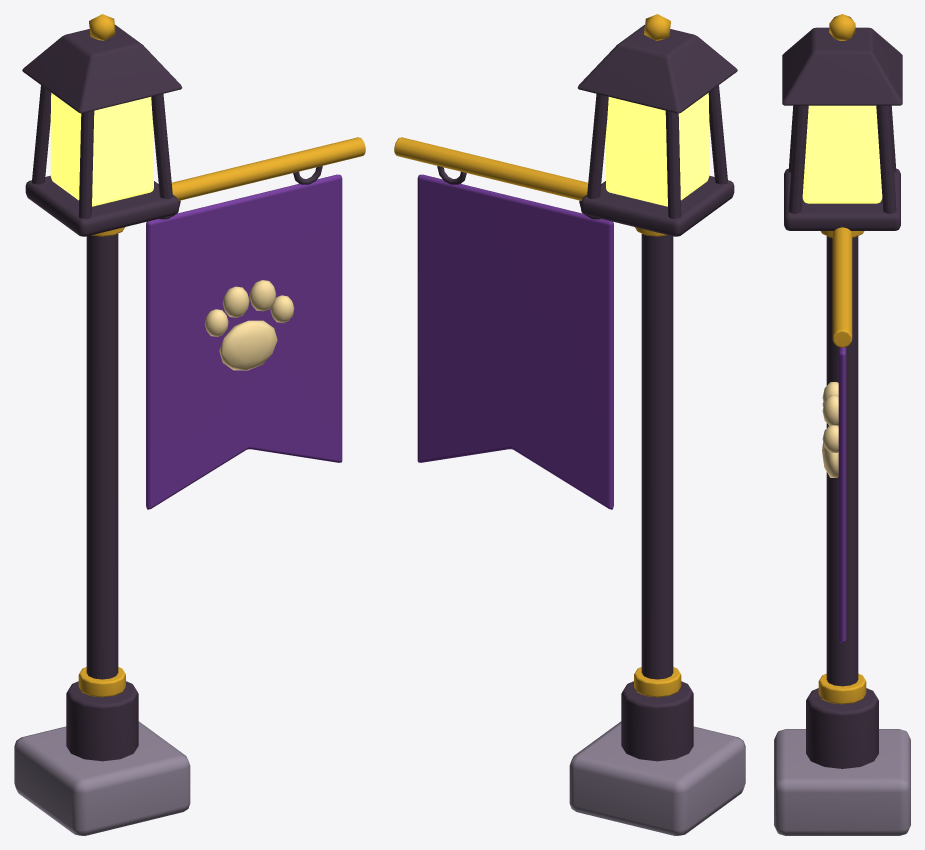
File: Lantern_Banner.glb
3 views of the same model, side by side, from view 1: azimuth 30°, elevation 25°; view 2: azimuth 150°, elevation 25°; view 3: azimuth 270°, elevation 25° (orthographic).
Visible parts, largest first — view 1: Lantern_Banner__Banner, Lantern_Banner__Structure, Lantern_Banner__Fixtures, Lantern_Banner__Glow, Lantern_Banner__Emblem; view 2: Lantern_Banner__Banner, Lantern_Banner__Structure, Lantern_Banner__Fixtures, Lantern_Banner__Glow; view 3: Lantern_Banner__Structure, Lantern_Banner__Fixtures, Lantern_Banner__Glow, Lantern_Banner__Banner, Lantern_Banner__Emblem.
Part boxes in pixels (bbox=[...]): Lantern_Banner__Banner: bbox=[146, 174, 342, 509]; Lantern_Banner__Structure: bbox=[14, 137, 365, 835]; Lantern_Banner__Fixtures: bbox=[22, 14, 182, 236]; Lantern_Banner__Glow: bbox=[50, 93, 153, 206]; Lantern_Banner__Emblem: bbox=[204, 280, 294, 370]; Lantern_Banner__Banner: bbox=[417, 174, 613, 509]; Lantern_Banner__Structure: bbox=[394, 137, 745, 835]; Lantern_Banner__Fixtures: bbox=[577, 14, 737, 236]; Lantern_Banner__Glow: bbox=[606, 93, 709, 206]; Lantern_Banner__Structure: bbox=[774, 227, 910, 835]; Lantern_Banner__Fixtures: bbox=[782, 14, 902, 230]; Lantern_Banner__Glow: bbox=[802, 105, 882, 203]; Lantern_Banner__Banner: bbox=[838, 347, 846, 643]; Lantern_Banner__Emblem: bbox=[822, 382, 838, 477].
Bounding box in the file's own units: 3.25 × 7.71 × 1.2.
